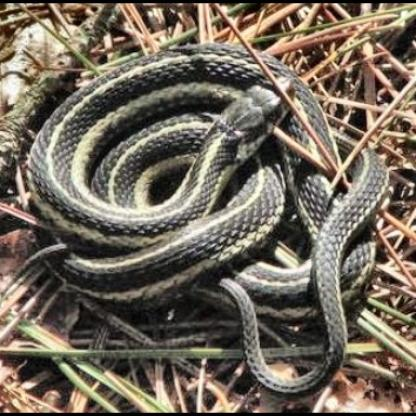Snake: (26, 44, 382, 393)
